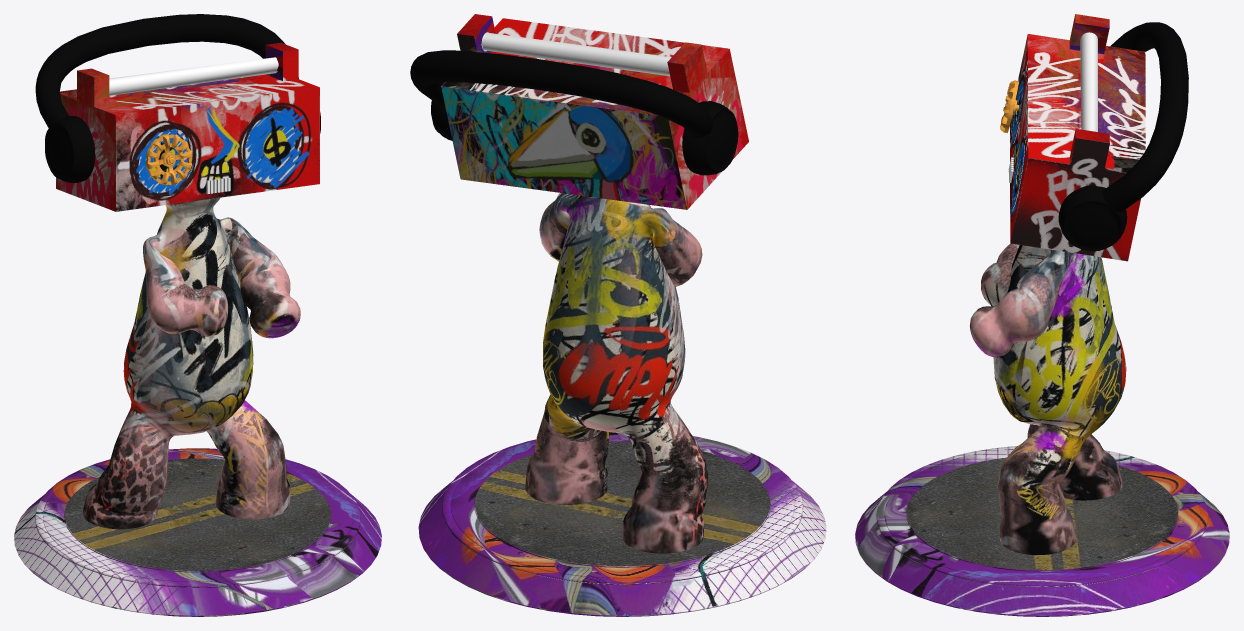
The picture shows the model from 3 angles, left to right: view 1: azimuth 30°, elevation 25°; view 2: azimuth 150°, elevation 25°; view 3: azimuth 270°, elevation 25°; orthographic projection. The views are drawn at different scales.
Bounding box in the file's own units: 1.45 × 2.05 × 1.45.
7 materials, 5 textured.
